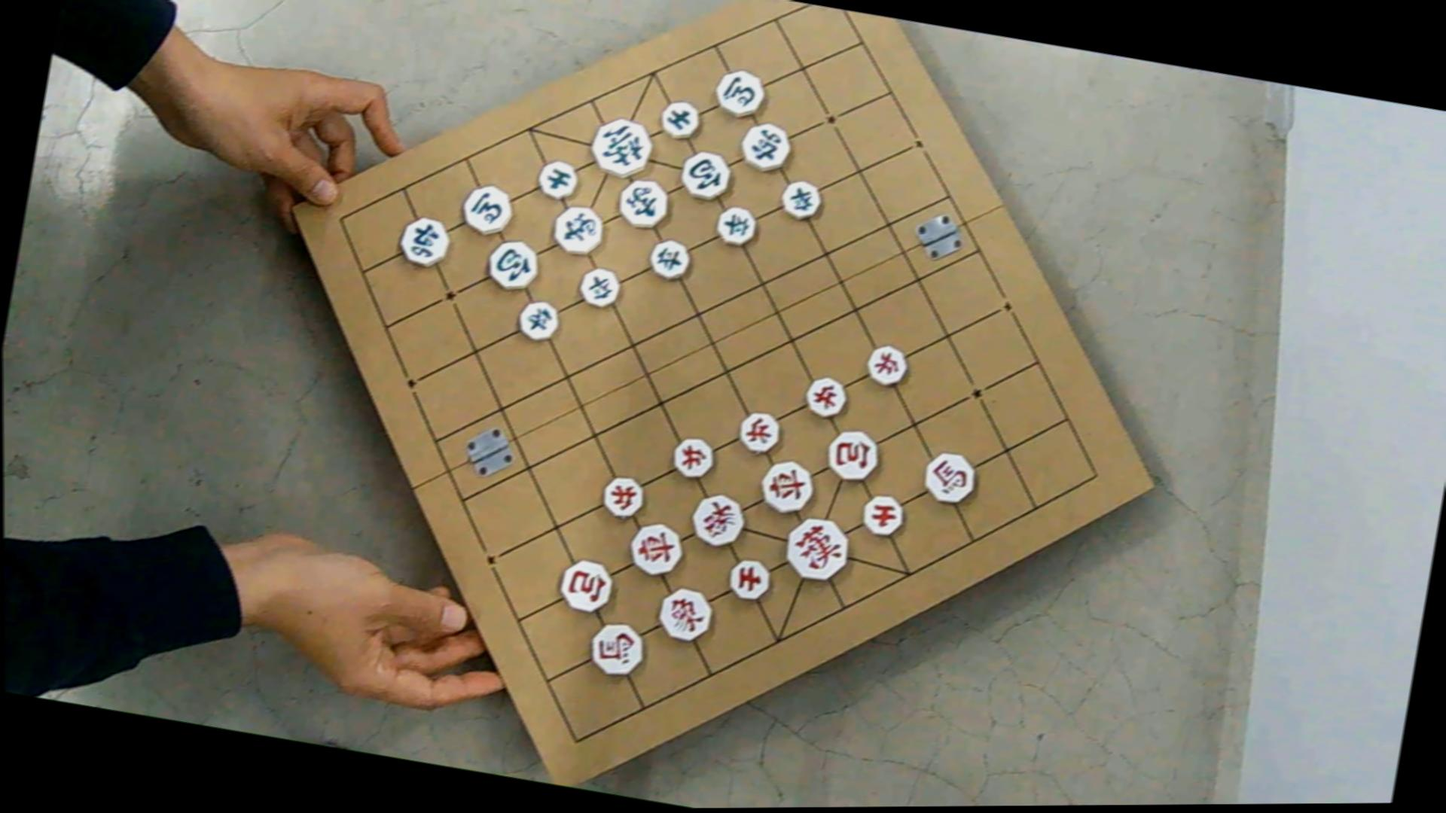cha_green: (397, 213, 453, 269), (738, 119, 795, 173)
cha_red: (625, 518, 686, 578), (758, 457, 817, 516)
jol_green: (576, 264, 622, 309), (515, 297, 560, 342), (778, 177, 824, 221), (647, 237, 692, 281), (714, 204, 758, 246)
jol_red: (599, 472, 647, 520), (801, 373, 850, 420), (735, 408, 783, 455), (670, 434, 717, 480), (864, 342, 910, 388)
ma_green: (458, 181, 515, 236), (712, 66, 768, 118)
ma_red: (586, 619, 647, 678), (920, 449, 979, 505)
po_green: (484, 236, 540, 291), (678, 148, 734, 201)
po_red: (557, 556, 615, 614), (824, 427, 882, 483)
sa_green: (535, 157, 580, 201), (657, 97, 702, 140)
sa_red: (859, 492, 907, 537), (727, 556, 773, 601)
sang_green: (550, 201, 606, 257), (615, 175, 671, 230)
sang_red: (655, 584, 715, 644), (688, 490, 747, 549)
wang_green: (587, 114, 655, 178)
wang_red: (781, 513, 853, 583)
